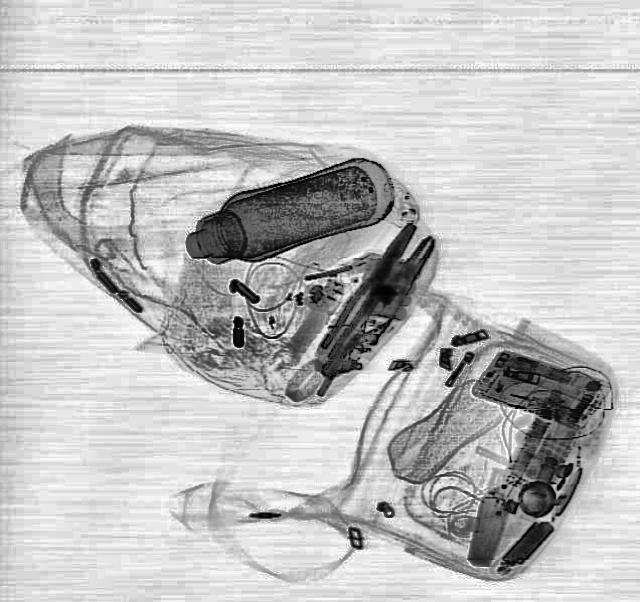Pliers: (324, 228, 442, 372)
